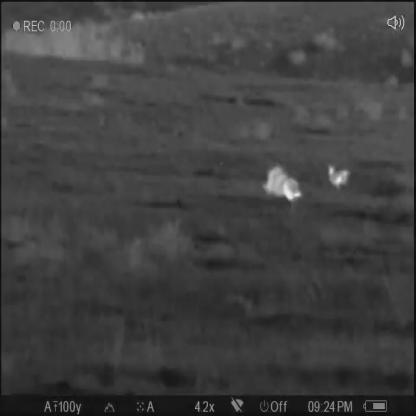rehkitze: (263, 164, 301, 202), (327, 161, 351, 194)
